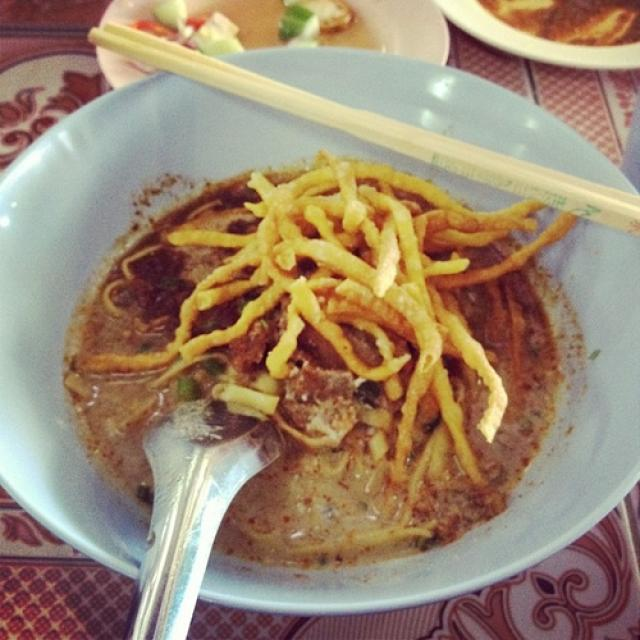面条主食: (25, 42, 616, 611)
